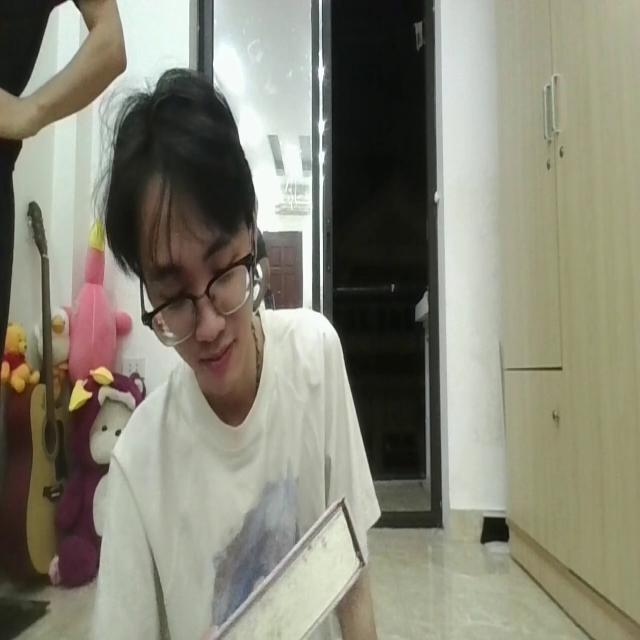book: (191, 488, 365, 640)
student: (93, 66, 377, 640)
